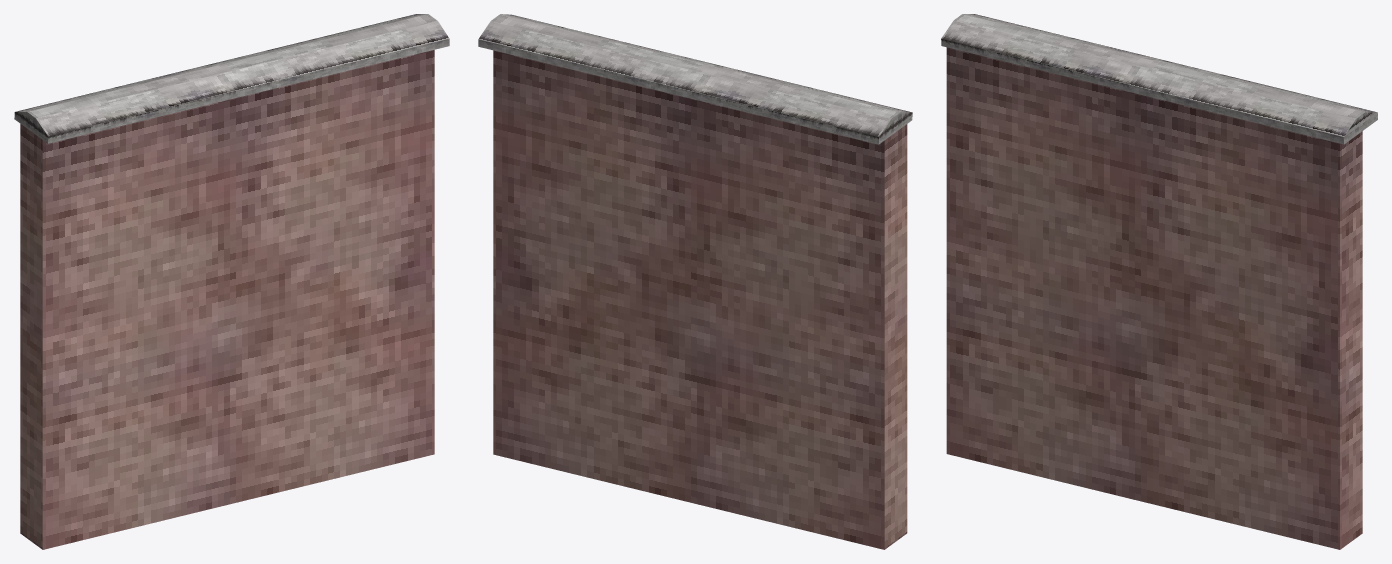
File: brick_wall_one_overhang_small.glb
3 views of the same model, side by side, from view 1: azimuth 30°, elevation 25°; view 2: azimuth 150°, elevation 25°; view 3: azimuth 330°, elevation 25° (orthographic).
Visible parts, largest first — view 1: brick_wall_one_overhang_small; view 2: brick_wall_one_overhang_small; view 3: brick_wall_one_overhang_small.
Boxes of the visible parts, bbox=[...] form: brick_wall_one_overhang_small: bbox=[14, 14, 449, 549]; brick_wall_one_overhang_small: bbox=[478, 14, 912, 549]; brick_wall_one_overhang_small: bbox=[941, 14, 1377, 549].
Bounding box in the file's own units: 2.05 × 2.08 × 0.2996.
2 materials, 2 textured.
